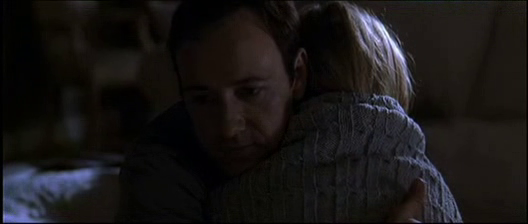cu: (1, 1, 528, 224)
face: (193, 50, 286, 158)
person: (202, 1, 461, 224), (112, 1, 299, 224)
